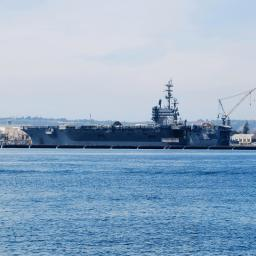Portanaves: (19, 74, 234, 150)
